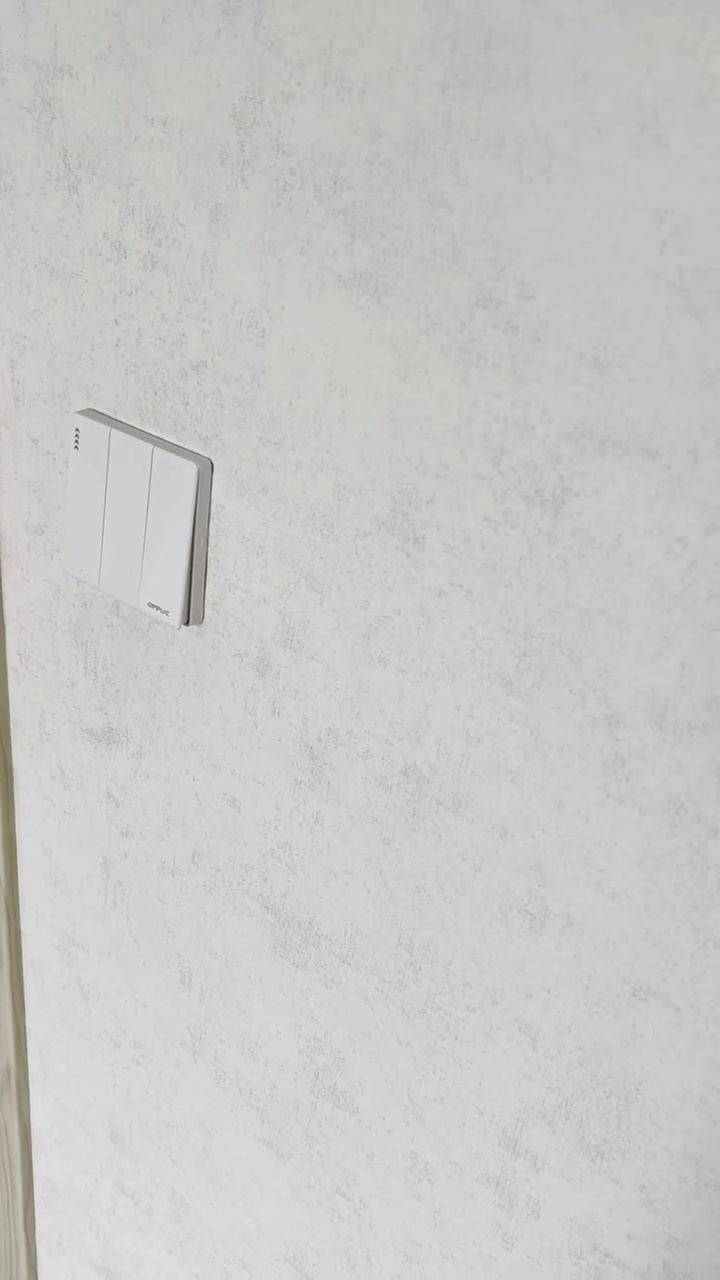button: (50, 402, 214, 633)
